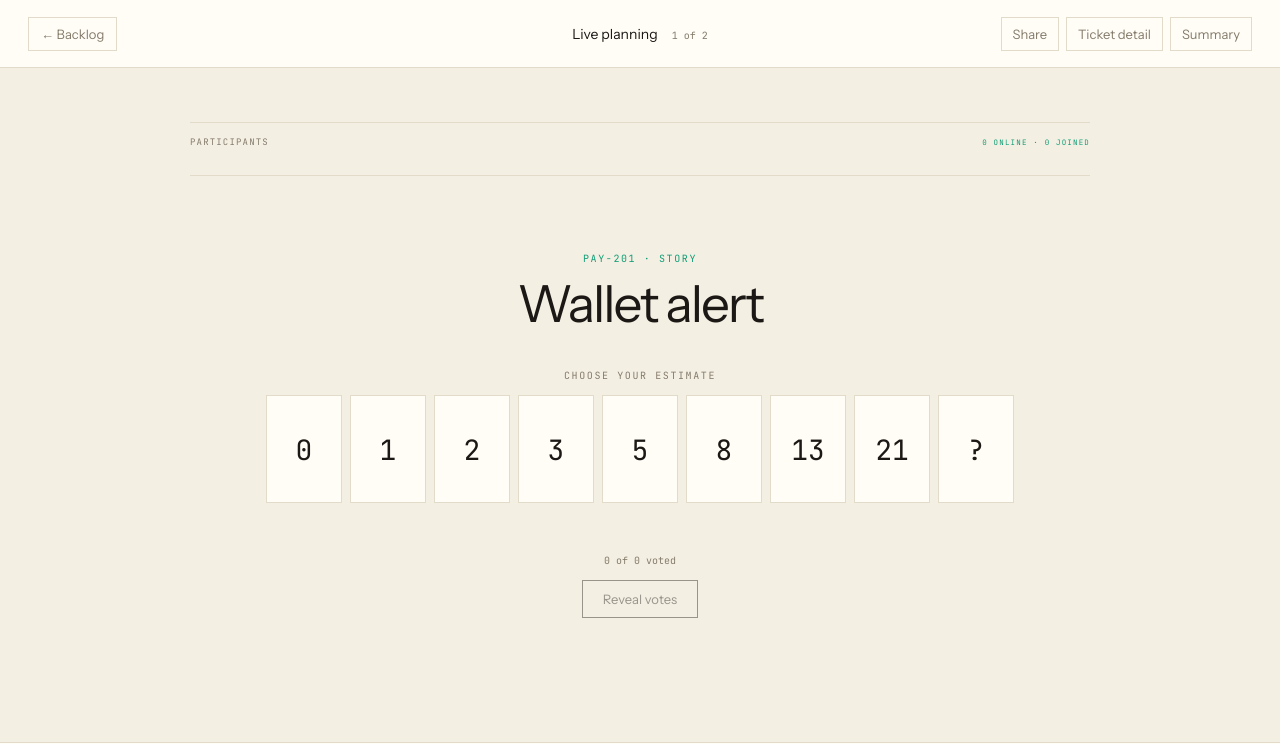
active ticket synchronization › formats a multiline ticket description as readable paragraphs
This screenshot has width=1280, height=744.
Expected: the heading "Wallet alert" is shown, 517,276 -> 763,331
Click the button "Ticket detail": {"x": 1114, "y": 34} 1066,16 -> 1163,50
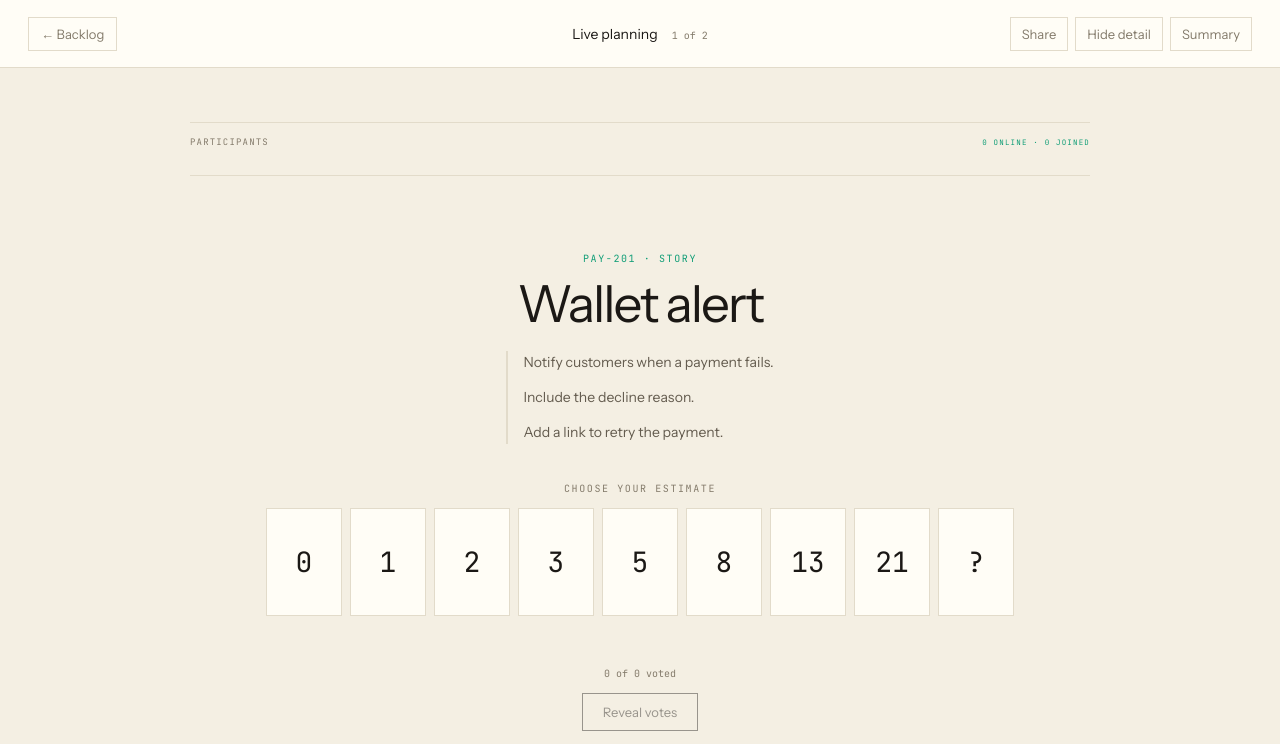
Expected: the text "Notify customers when a payment fails." is shown, 523,353 -> 774,371
Expected: the text "Include the decline reason." is shown, 523,388 -> 694,406
Expected: the text "Add a link to retry the payment." is shown, 523,423 -> 723,441
